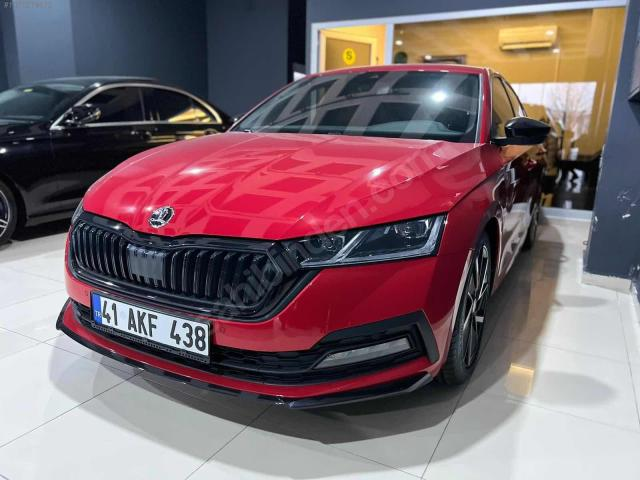plaka: (91, 293, 210, 360)
